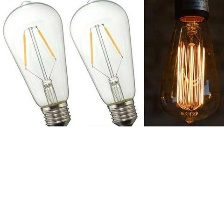light_bulb: (61, 0, 142, 132), (0, 0, 78, 134), (155, 0, 223, 129)
